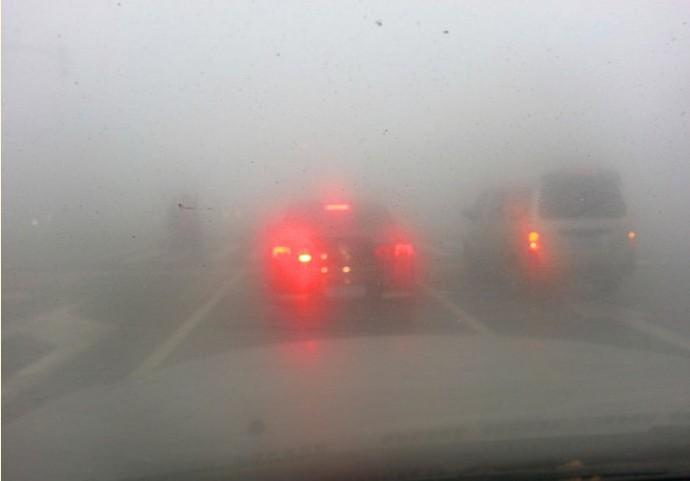car: (459, 168, 635, 294), (260, 198, 417, 316)
